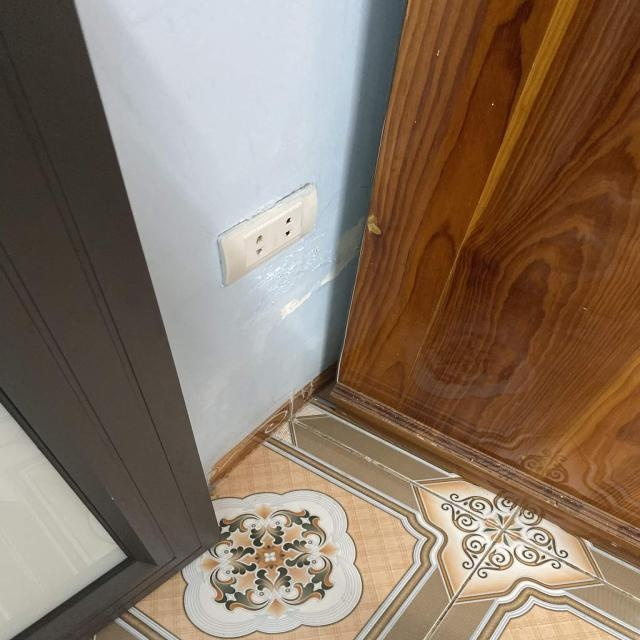outlet: (216, 182, 318, 286)
